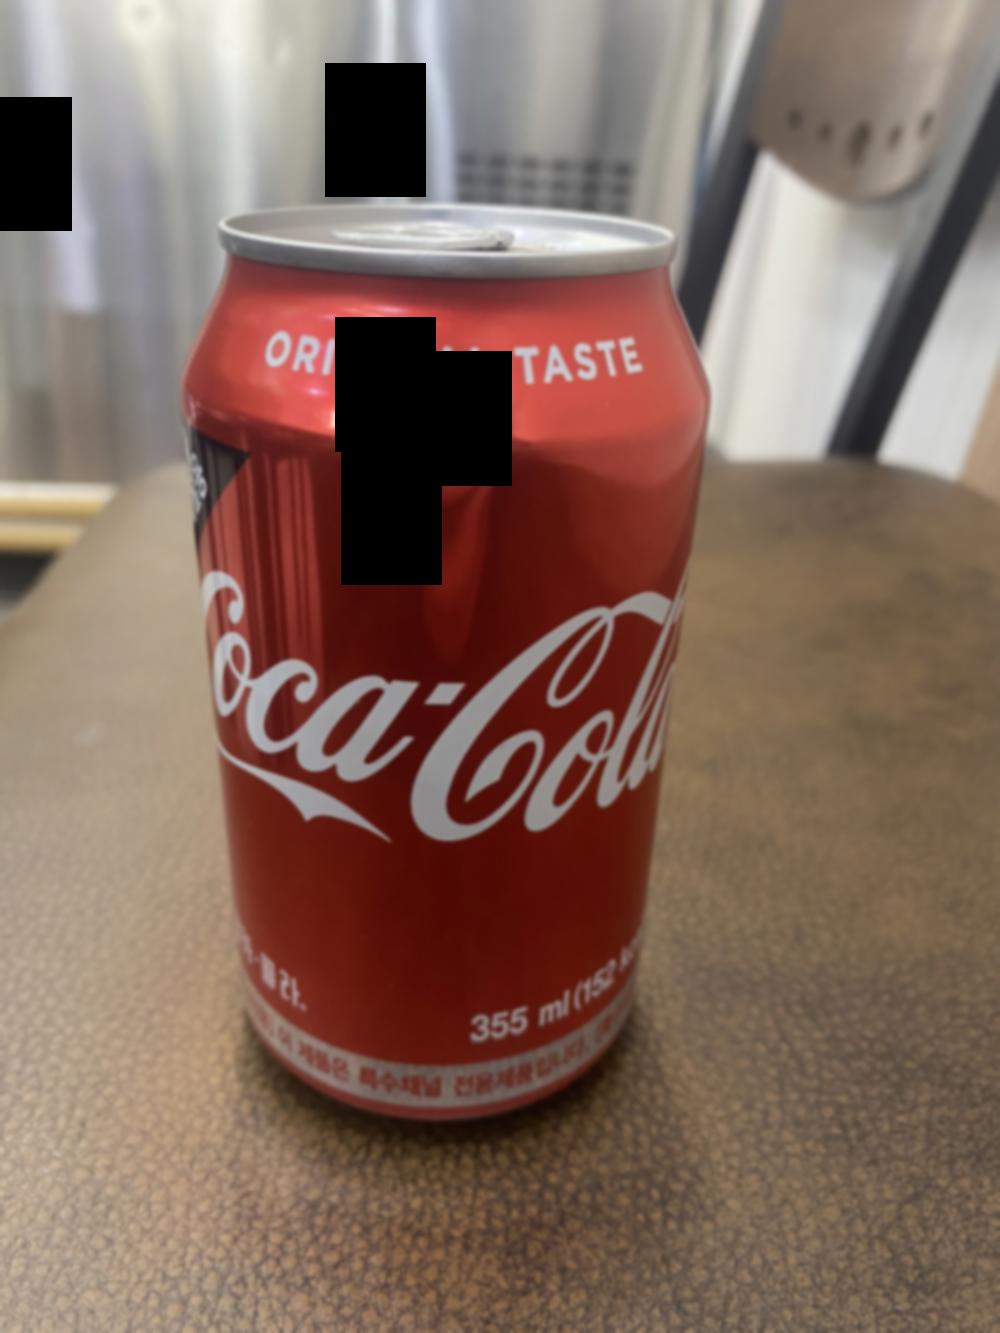cocacola: (175, 207, 712, 1141)
